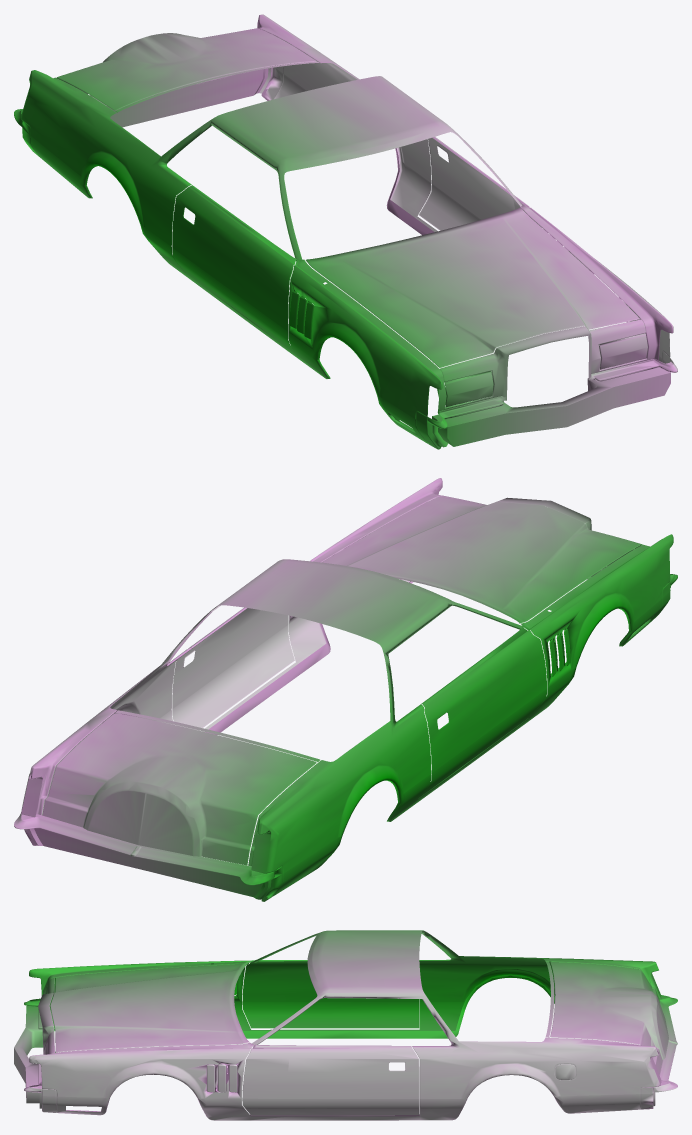
Rendered from lincoln_foam_macro.glb.
3 renders of one model, top to bottom at view 1: azimuth 30°, elevation 25°; view 2: azimuth 150°, elevation 25°; view 3: azimuth 270°, elevation 25°, orthographic. The views are drawn at different scales.
Visible parts, largest first — view 1: FoamMacroMesh; view 2: FoamMacroMesh; view 3: FoamMacroMesh.
Part boxes in pixels (<box>): FoamMacroMesh: <box>14,14,677,449</box>; FoamMacroMesh: <box>14,478,677,901</box>; FoamMacroMesh: <box>14,930,677,1120</box>.
Bounding box in the file's own units: 2.02 × 1.16 × 5.7.
